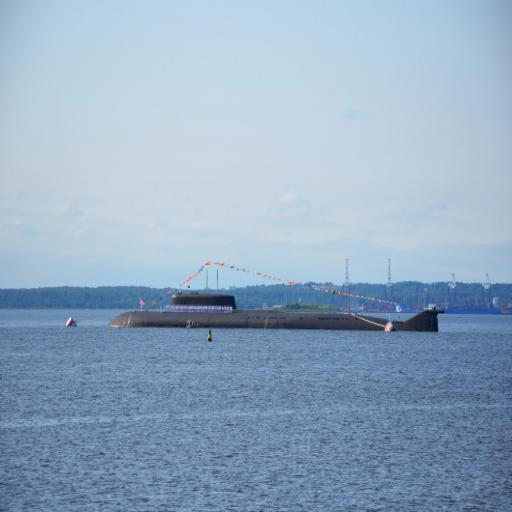submarine: (107, 292, 441, 327)
